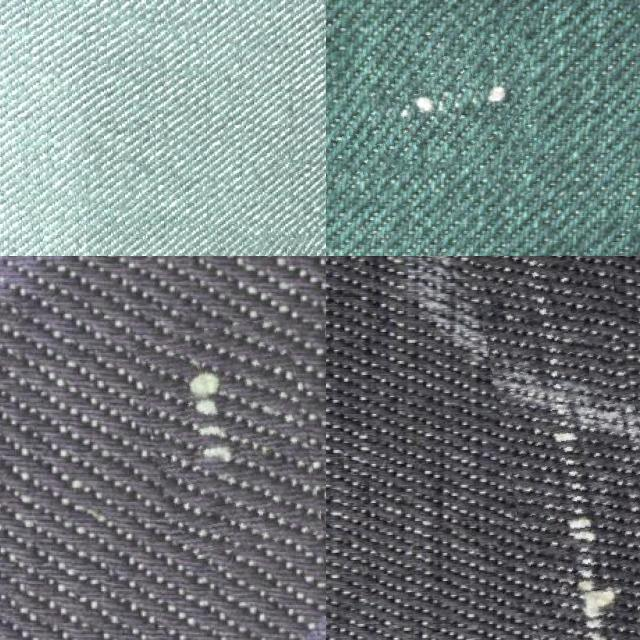Thread_other: (477, 256, 640, 640), (146, 320, 316, 552), (326, 26, 539, 177)
